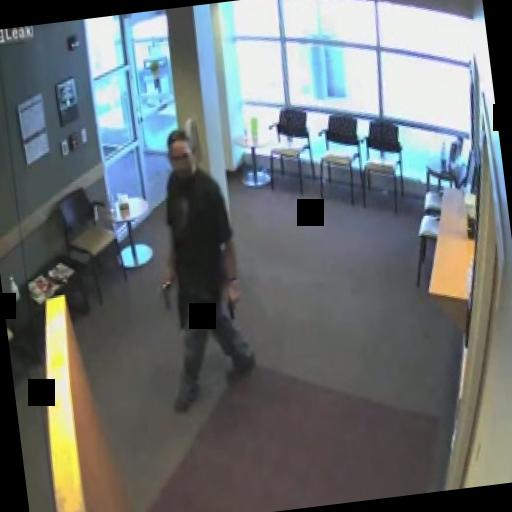Handgun: (158, 272, 175, 310)
